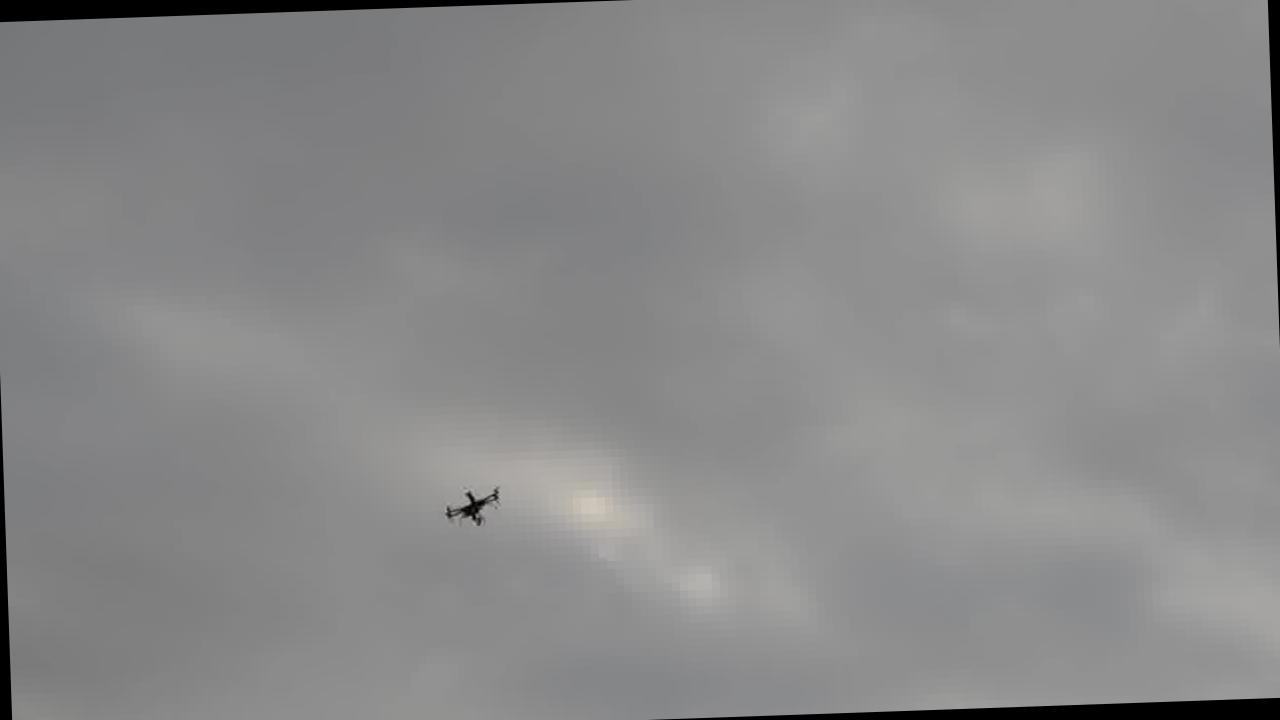drone: (440, 482, 502, 528)
